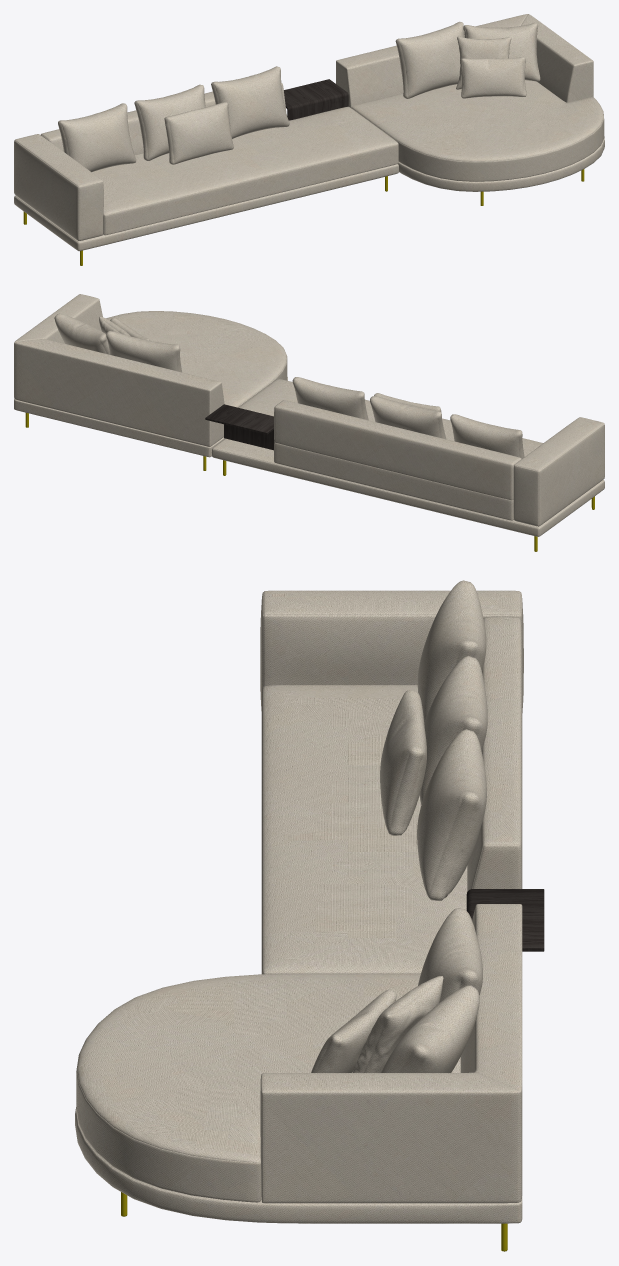
Rendered from moss-chaise.glb.
3 renders of one model, top to bottom at view 1: azimuth 30°, elevation 25°; view 2: azimuth 150°, elevation 25°; view 3: azimuth 270°, elevation 25°, orthographic. The views are drawn at different scales.
Parts seen in each view (by area): view 1: 3DGeom-15, 3DGeom-17, 3DGeom-12, 3DGeom-4, 3DGeom-13, 3DGeom-3, 3DGeom-10, 3DGeom-5, 3DGeom-1, 3DGeom-6, 3DGeom-8, 3DGeom-11 (+4 smaller); view 2: 3DGeom-12, 3DGeom-16, 3DGeom-17, 3DGeom-4, 3DGeom-15, 3DGeom-13, 3DGeom-11, 3DGeom-2, 3DGeom-3, 3DGeom-5, 3DGeom-8, 3DGeom-10 (+1 smaller); view 3: 3DGeom-17, 3DGeom-15, 3DGeom-12, 3DGeom-4, 3DGeom-16, 3DGeom-11, 3DGeom-5, 3DGeom-1, 3DGeom-3, 3DGeom-14, 3DGeom-8, 3DGeom-10 (+3 smaller).
Part boxes in pixels (box(x1,y1,x2,y2)): 3DGeom-15: box(92, 106, 398, 235); 3DGeom-17: box(351, 80, 604, 181); 3DGeom-12: box(336, 14, 593, 107); 3DGeom-4: box(14, 134, 103, 240); 3DGeom-13: box(14, 164, 398, 251); 3DGeom-3: box(58, 103, 136, 172); 3DGeom-10: box(395, 21, 464, 98); 3DGeom-5: box(211, 66, 289, 138); 3DGeom-1: box(164, 102, 233, 164); 3DGeom-6: box(460, 57, 526, 98); 3DGeom-8: box(134, 84, 205, 160); 3DGeom-11: box(398, 136, 604, 191); 3DGeom-12: box(14, 294, 224, 446); 3DGeom-16: box(274, 400, 521, 500); 3DGeom-17: box(106, 311, 287, 407); 3DGeom-4: box(513, 417, 604, 526); 3DGeom-15: box(238, 379, 543, 520); 3DGeom-13: box(211, 438, 604, 536); 3DGeom-11: box(14, 377, 287, 457); 3DGeom-2: box(205, 404, 274, 450); 3DGeom-3: box(450, 414, 524, 458); 3DGeom-5: box(292, 377, 368, 420); 3DGeom-8: box(370, 396, 446, 439); 3DGeom-10: box(106, 331, 181, 372); 3DGeom-17: box(76, 973, 460, 1202); 3DGeom-15: box(261, 685, 467, 974); 3DGeom-12: box(260, 904, 522, 1203); 3DGeom-4: box(260, 590, 523, 712); 3DGeom-16: box(467, 616, 522, 891); 3DGeom-11: box(75, 1107, 522, 1223); 3DGeom-5: box(417, 729, 486, 900); 3DGeom-1: box(380, 690, 426, 835); 3DGeom-3: box(417, 580, 486, 721); 3DGeom-14: box(381, 985, 479, 1072); 3DGeom-8: box(419, 656, 487, 804); 3DGeom-10: box(418, 908, 482, 1002).
Size of the model in its own units: 4.26 by 0.8268 by 1.67.
Materials: 3 (2 with a texture image).
